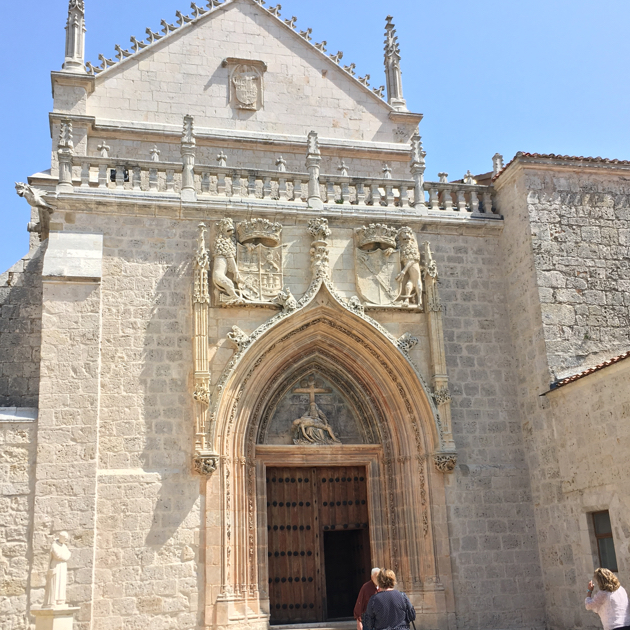arco-apuntado: (220, 305, 424, 453)
arco-conopial: (238, 271, 399, 345)
pinaculo-gotico: (377, 7, 400, 71)
